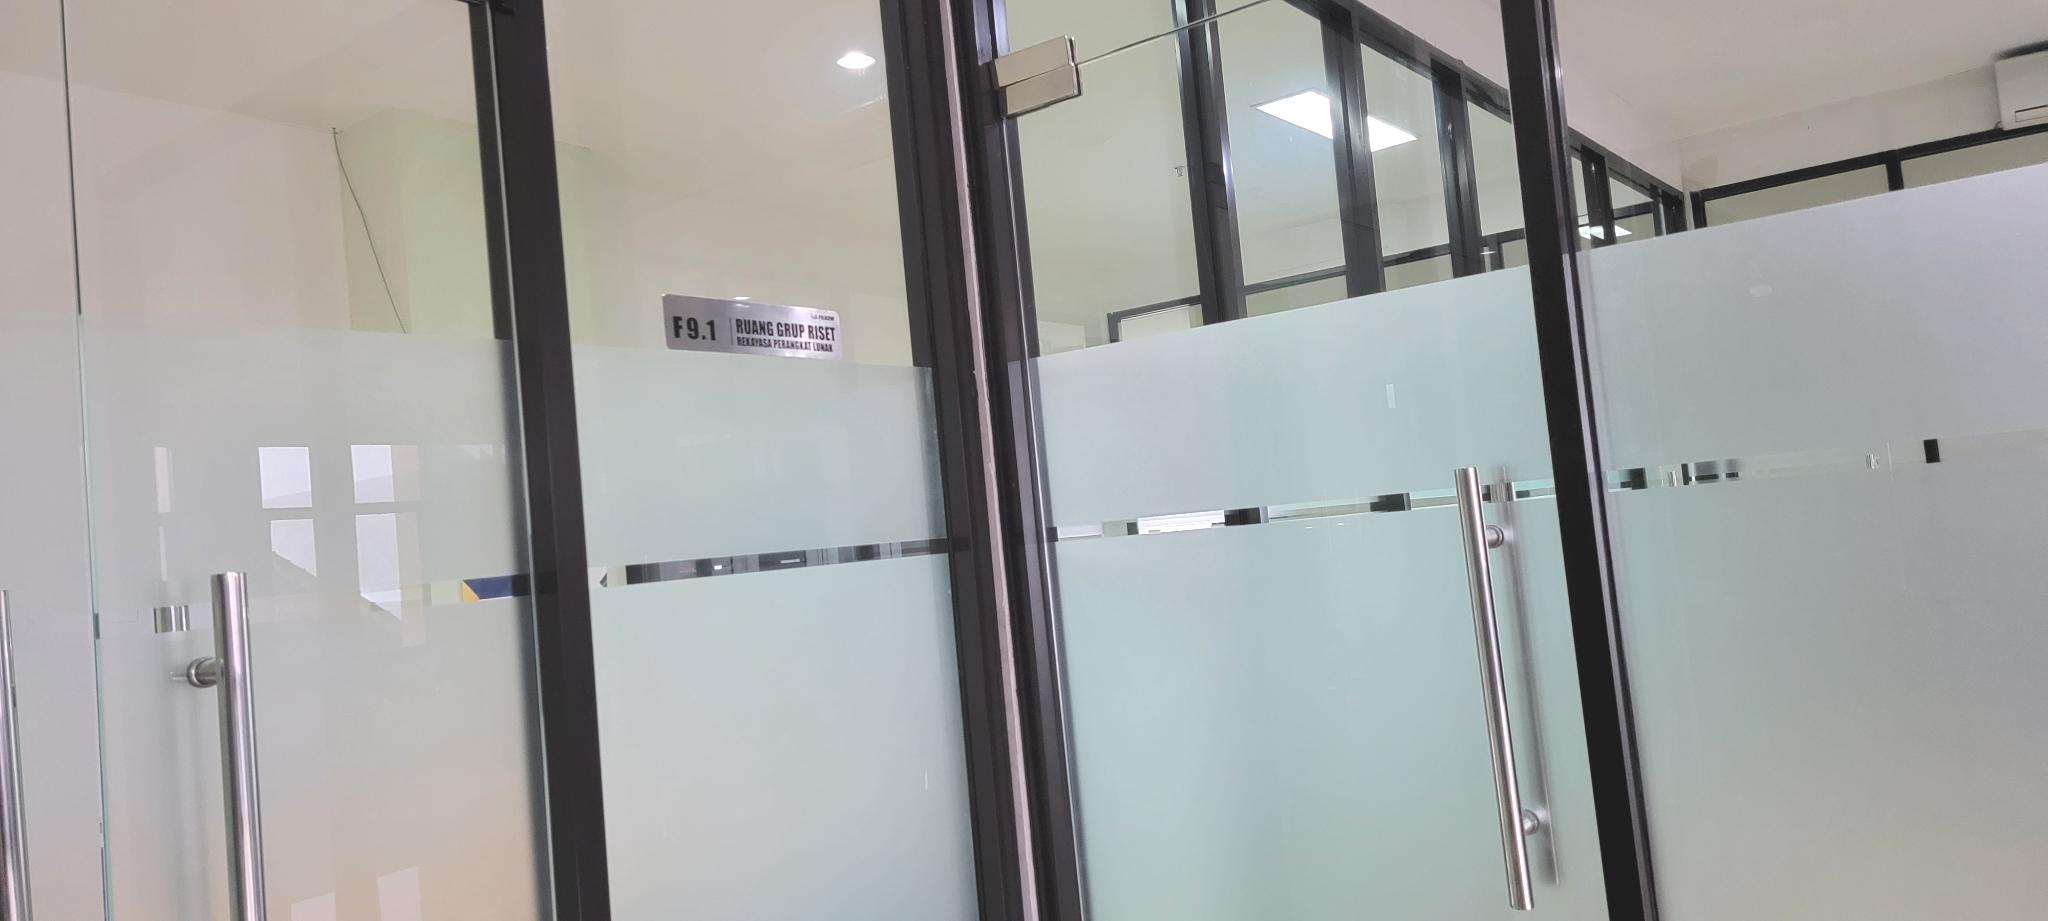plate: (664, 293, 842, 361)
